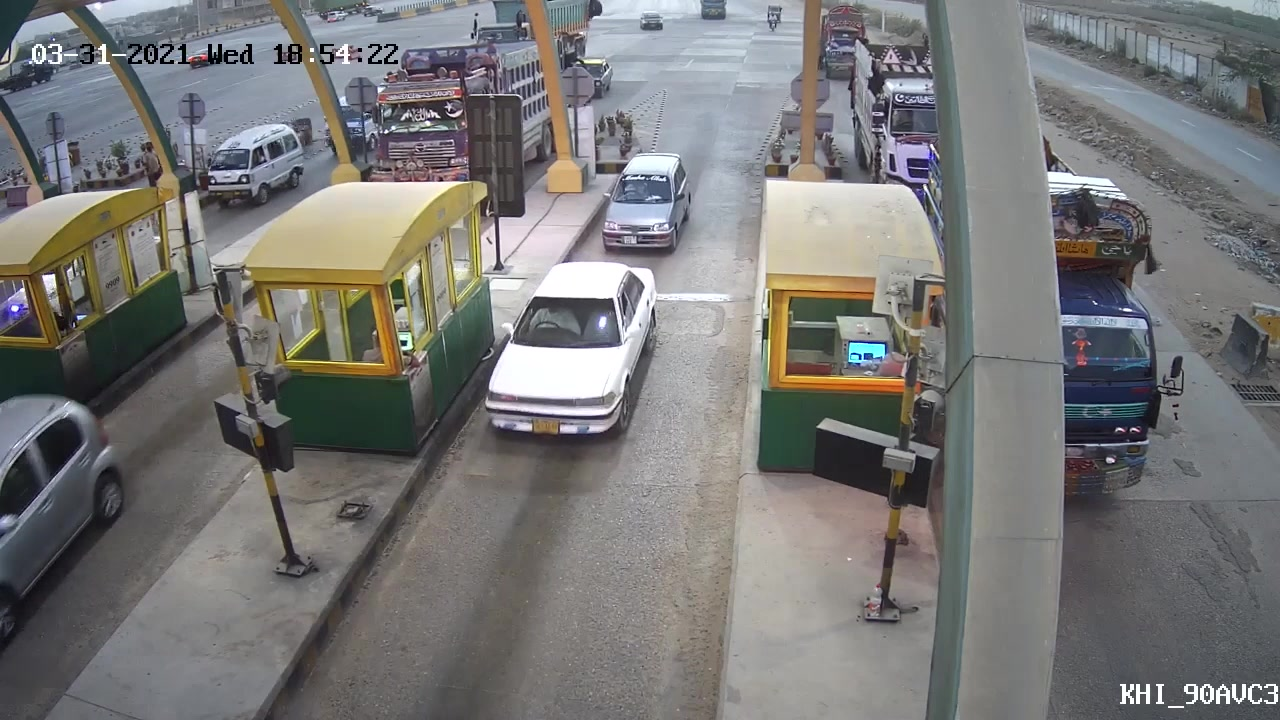F1: (479, 258, 659, 443), (599, 147, 700, 254)
